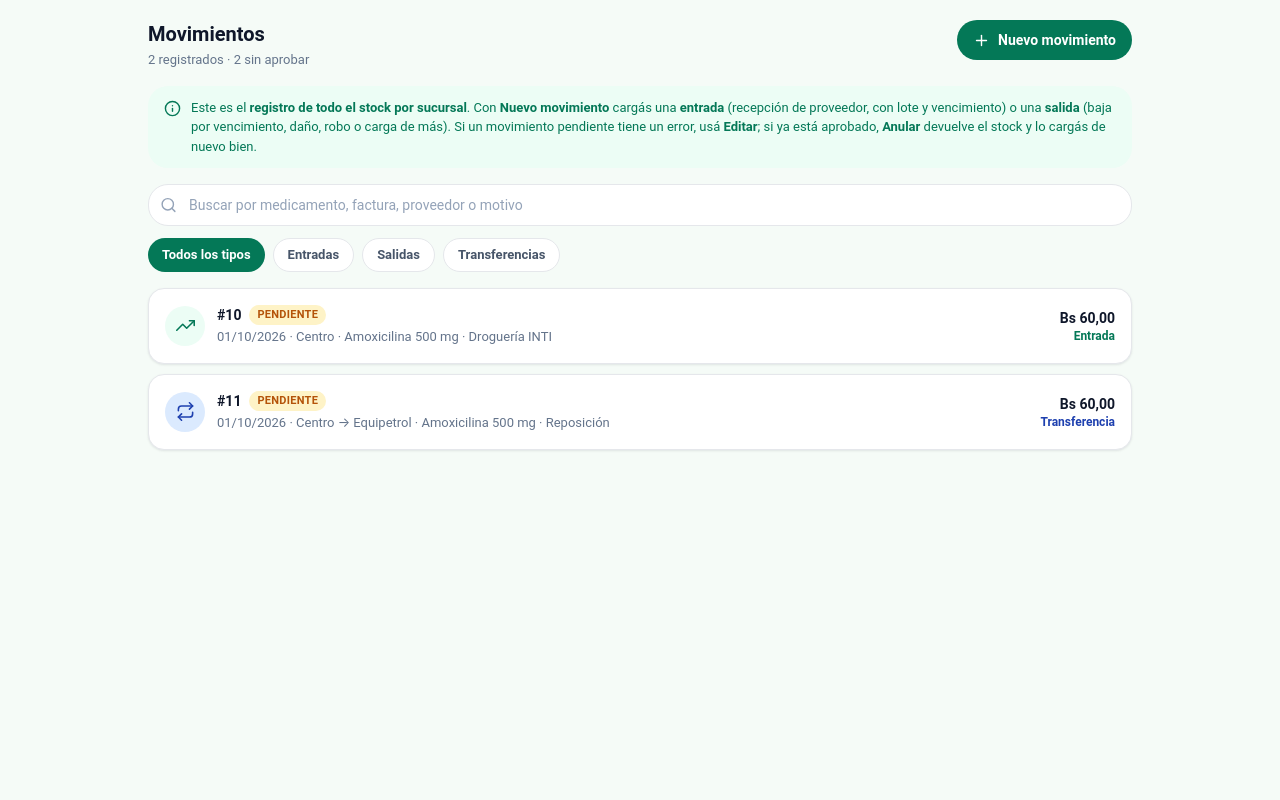
Test case: Transferencias en el registro › el detalle muestra las dos puntas y no pide factura ni motivo
The width and height of the screenshot is (1280, 800).
Click the text "Centro → Equipetrol": (413, 422) x1=217 y1=415 x2=610 y2=430
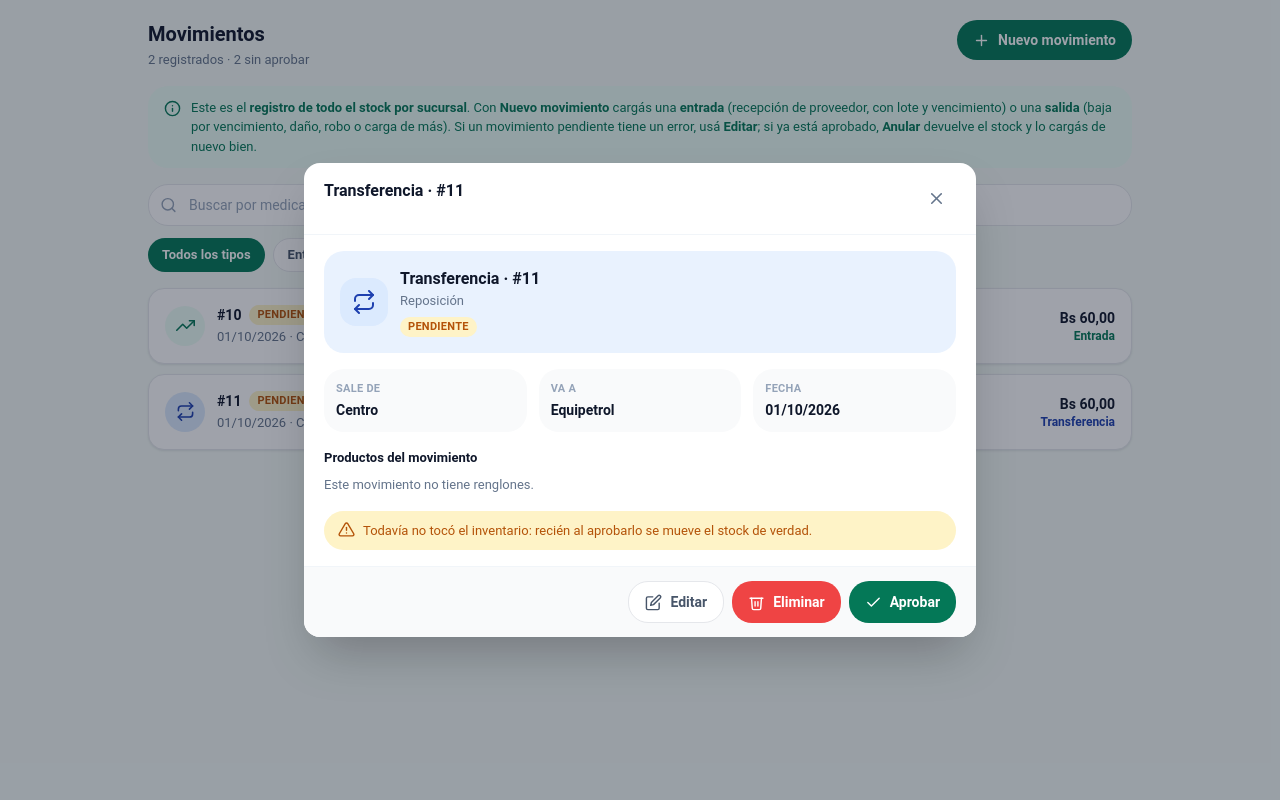
Check: the text "Sale de" is shown, box x1=336 y1=382 x2=380 y2=395
Check: the text "Va a" is shown, box x1=551 y1=382 x2=576 y2=395
Check: the text "Equipetrol" is shown, box x1=551 y1=402 x2=615 y2=418
